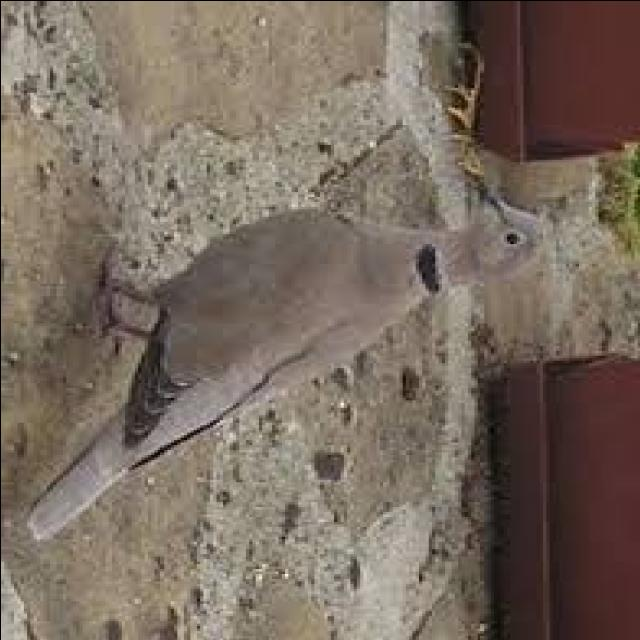pigeon: (39, 132, 554, 546)
